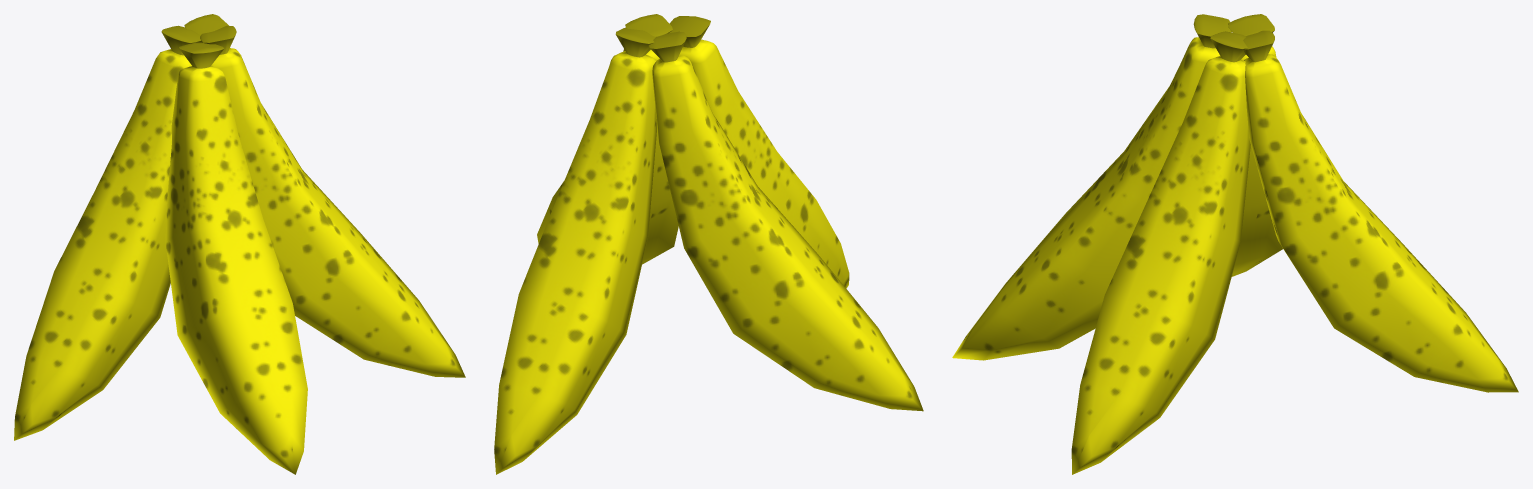
Rendered from Banana_Naughty_1.FBX.
3 renders of one model, left to right at view 1: azimuth 30°, elevation 25°; view 2: azimuth 150°, elevation 25°; view 3: azimuth 270°, elevation 25°, orthographic. The views are drawn at different scales.
Parts seen in each view (by area): view 1: Bananas; view 2: Bananas; view 3: Bananas.
Boxes of the visible parts, left/top/right/bottom form: Bananas: left=14, top=14, right=465, bottom=474; Bananas: left=494, top=14, right=923, bottom=474; Bananas: left=952, top=14, right=1518, bottom=474.
Size of the model in its own units: 4.17 by 3.29 by 4.82.
